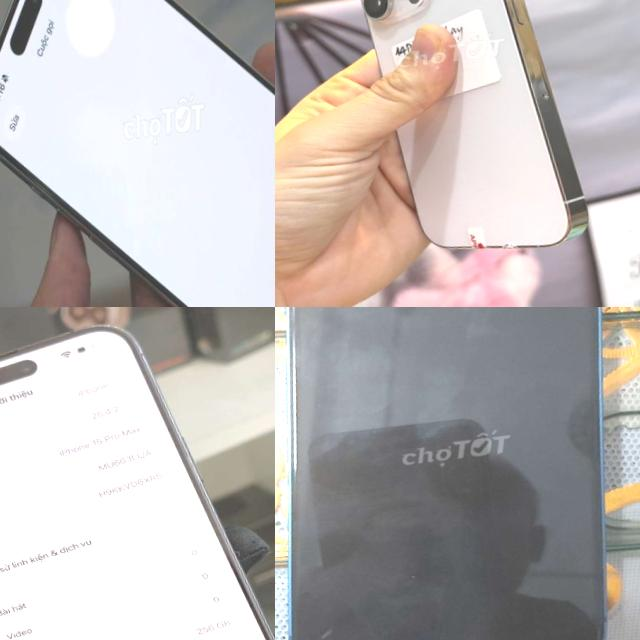gen_12_13: (275, 307, 640, 640)
gen_14: (335, 0, 608, 282)
gen_15: (0, 307, 275, 640), (0, 0, 275, 307)
